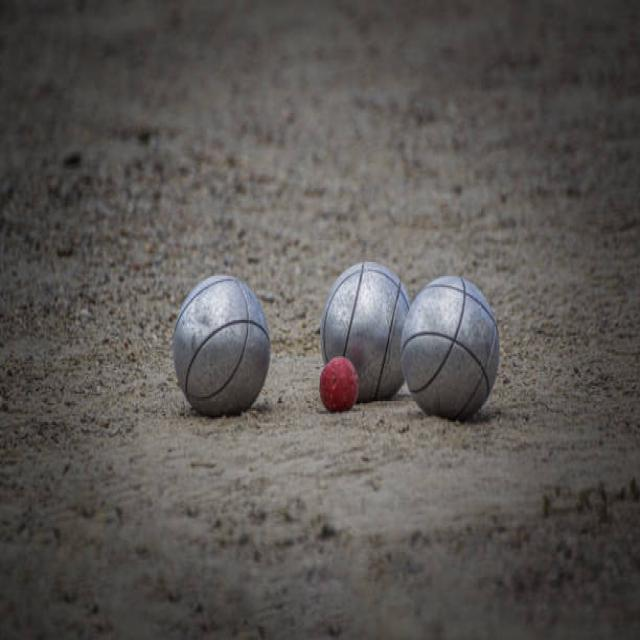hatball: (308, 348, 363, 421)
petanque: (397, 268, 510, 429), (171, 268, 274, 423), (319, 253, 415, 399)
